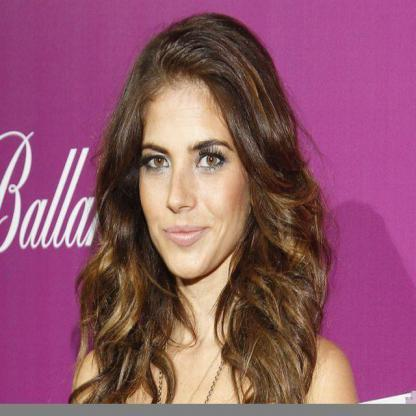long-hair: (74, 282, 332, 344)
